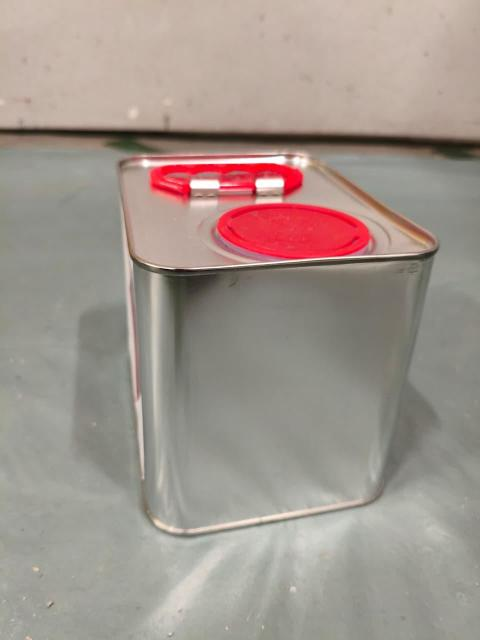Metal: (98, 143, 423, 535)
Plastik: (157, 162, 302, 202), (253, 203, 340, 253)
